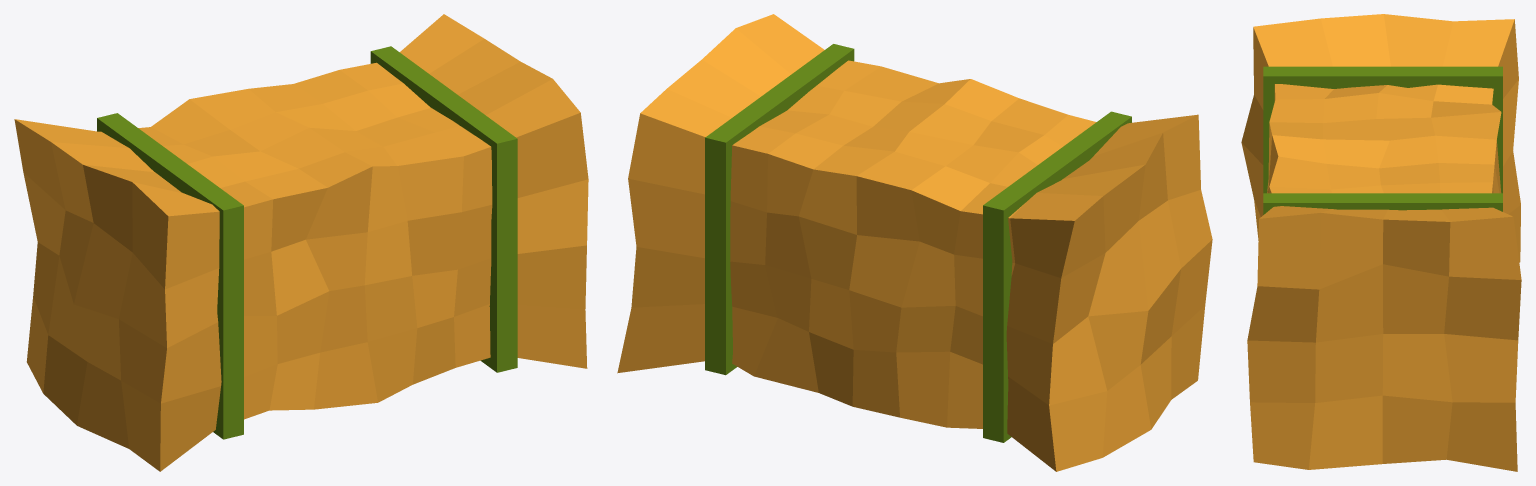
The model's file is Hay.fbx.
3 views of the same model, side by side, from view 1: azimuth 30°, elevation 25°; view 2: azimuth 150°, elevation 25°; view 3: azimuth 270°, elevation 25° (orthographic). The views are drawn at different scales.
Parts seen in each view (by area): view 1: Hay; view 2: Hay; view 3: Hay.
Boxes of the visible parts, left/top/right/bottom form: Hay: left=14, top=14, right=588, bottom=471; Hay: left=617, top=14, right=1212, bottom=471; Hay: left=1241, top=14, right=1521, bottom=471.
Bounding box in the file's own units: 1.33 × 0.7482 × 0.7461.
